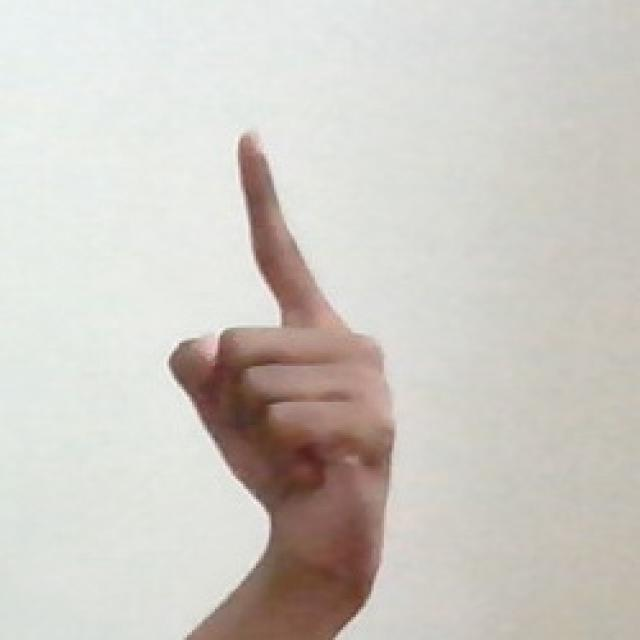Alphabet-I: (155, 124, 432, 601)
